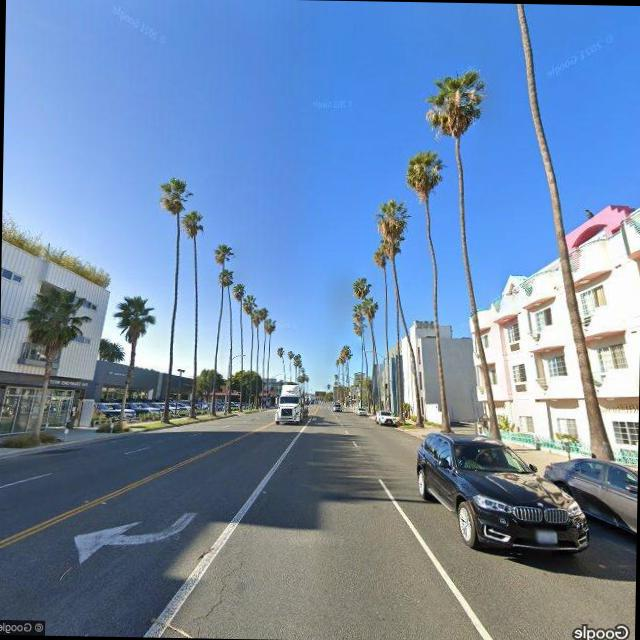crack: (170, 552, 248, 638)
